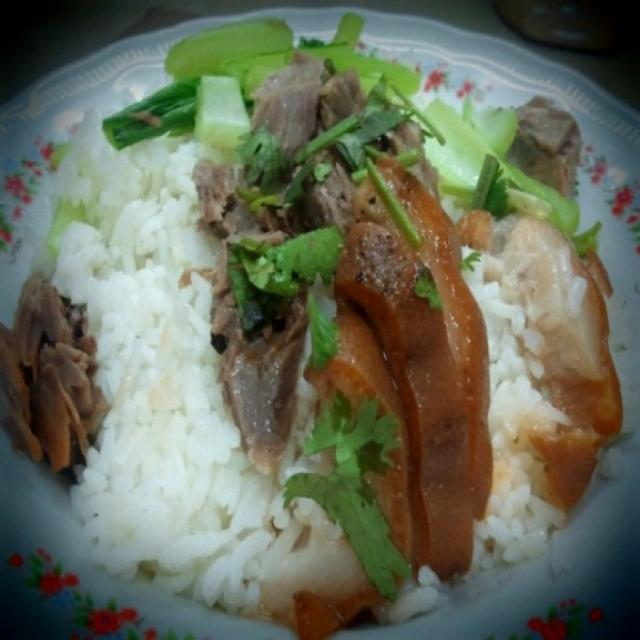猪肉菜式: (21, 42, 611, 610)
